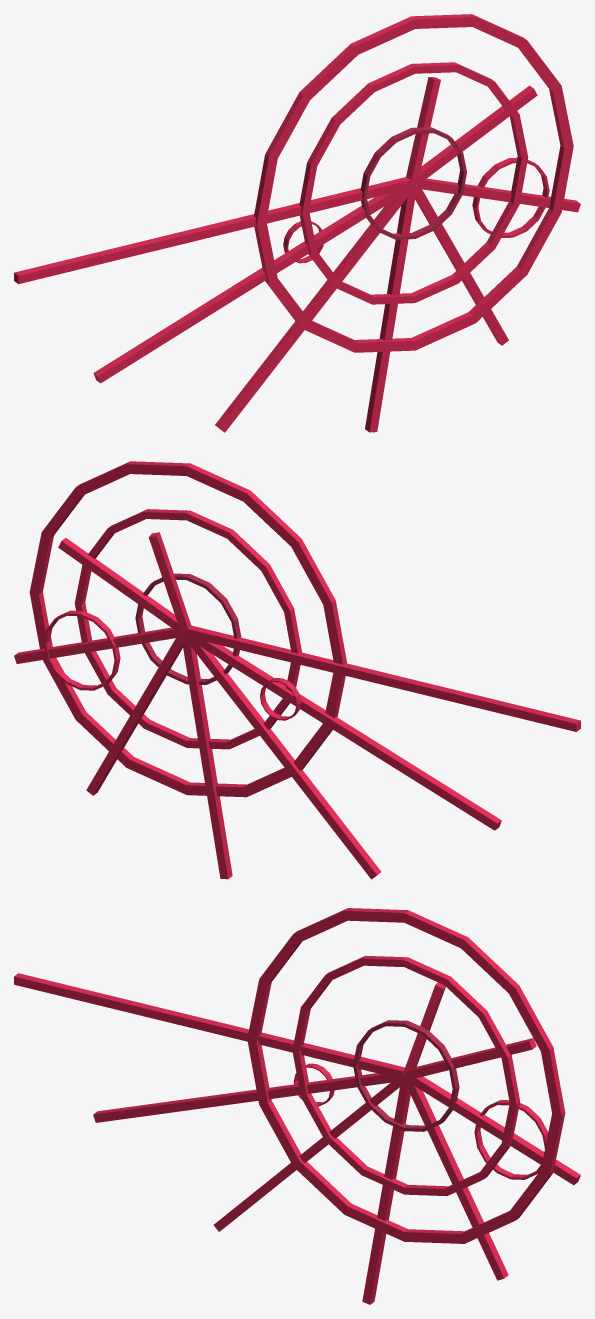
File: amulet01_Mdl_Dec_Z2.fbx
The picture shows the model from 3 angles, top to bottom: view 1: azimuth 30°, elevation 25°; view 2: azimuth 150°, elevation 25°; view 3: azimuth 330°, elevation 25°; orthographic projection.
Parts seen in each view (by area): view 1: amulet01; view 2: amulet01; view 3: amulet01.
Boxes of the visible parts, x1,y1,x2,y2 form: amulet01: (14, 14, 580, 432); amulet01: (14, 461, 580, 879); amulet01: (14, 908, 580, 1304).
Bounding box in the file's own units: 71.32 × 48.91 × 2.69.
